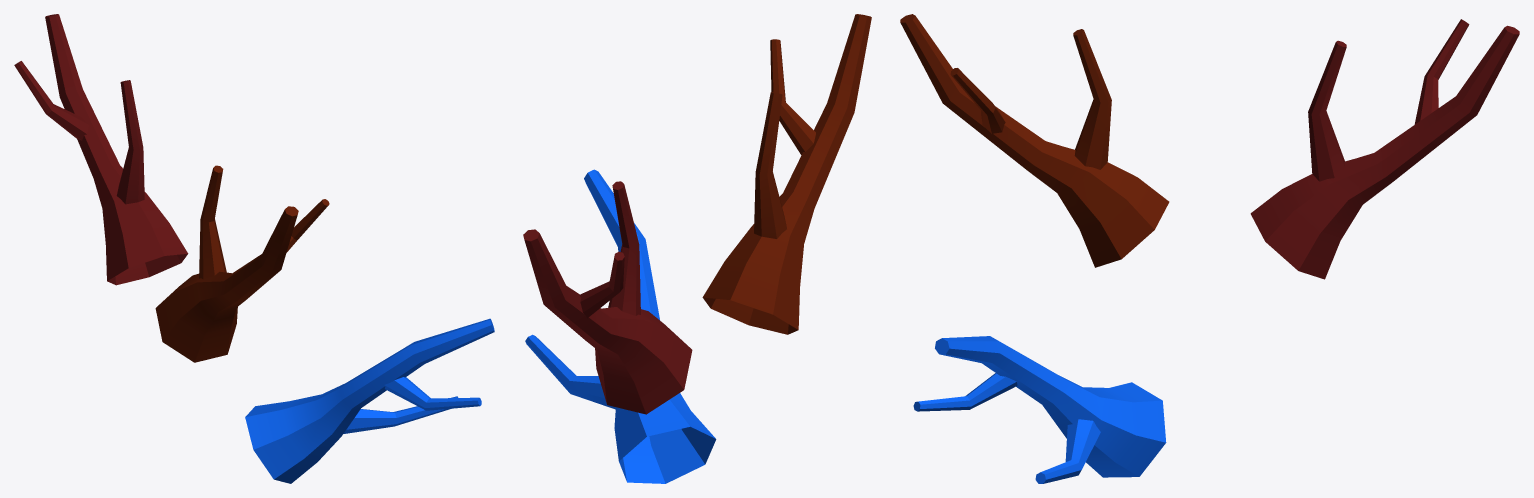
The model's file is egg_z06_02.obj.
3 views of the same model, side by side, from view 1: azimuth 30°, elevation 25°; view 2: azimuth 150°, elevation 25°; view 3: azimuth 270°, elevation 25° (orthographic). The views are drawn at different scales.
Parts seen in each view (by area): view 1: egg_z06_02_p001, egg_z06_02_p002, egg_z06_02_p000; view 2: egg_z06_02_p000, egg_z06_02_p001, egg_z06_02_p002; view 3: egg_z06_02_p001, egg_z06_02_p000, egg_z06_02_p002.
Boxes of the visible parts, left/top/right/bottom form: egg_z06_02_p001: left=14, top=14, right=188, bottom=285; egg_z06_02_p002: left=245, top=318, right=494, bottom=483; egg_z06_02_p000: left=155, top=165, right=329, bottom=362; egg_z06_02_p000: left=702, top=14, right=871, bottom=334; egg_z06_02_p001: left=523, top=181, right=692, bottom=414; egg_z06_02_p002: left=525, top=169, right=716, bottom=483; egg_z06_02_p001: left=1250, top=19, right=1519, bottom=279; egg_z06_02_p000: left=900, top=14, right=1169, bottom=267; egg_z06_02_p002: left=913, top=336, right=1166, bottom=483.
Bounding box in the file's own units: 2.01 × 2.59 × 3.51.
